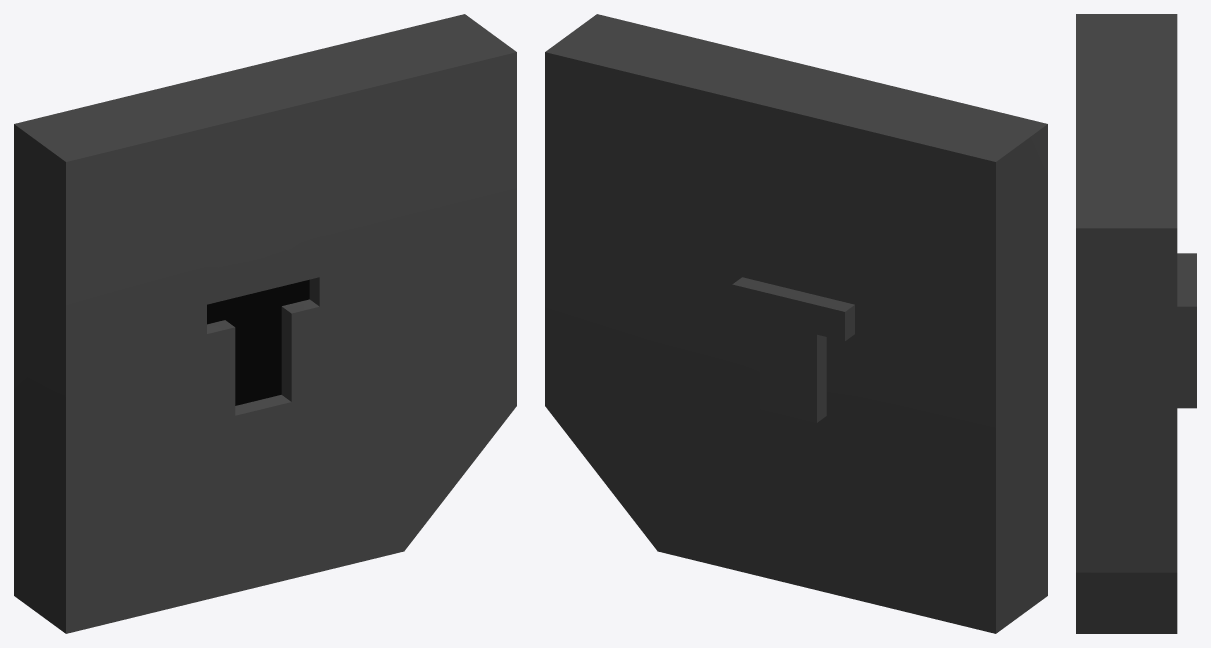
File: StationprisonLock.fbx
3 renders of one model, left to right at view 1: azimuth 30°, elevation 25°; view 2: azimuth 150°, elevation 25°; view 3: azimuth 270°, elevation 25°, orthographic. The views are drawn at different scales.
Visible parts, largest first — view 1: Cube.009; view 2: Cube.009; view 3: Cube.009.
Boxes of the visible parts, <box> form: Cube.009: <box>14,14,516,633</box>; Cube.009: <box>545,14,1047,633</box>; Cube.009: <box>1076,14,1196,633</box>.
Size of the model in its own units: 20 by 20 by 4.77.
